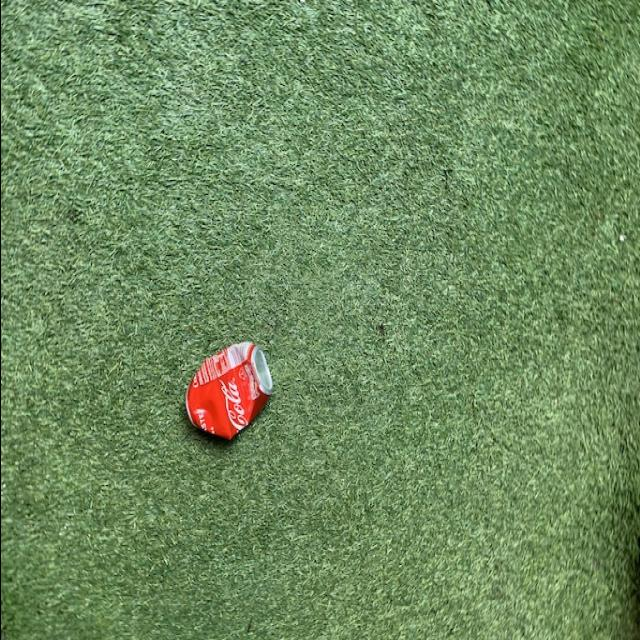Aluminum Can: (179, 338, 270, 447)
